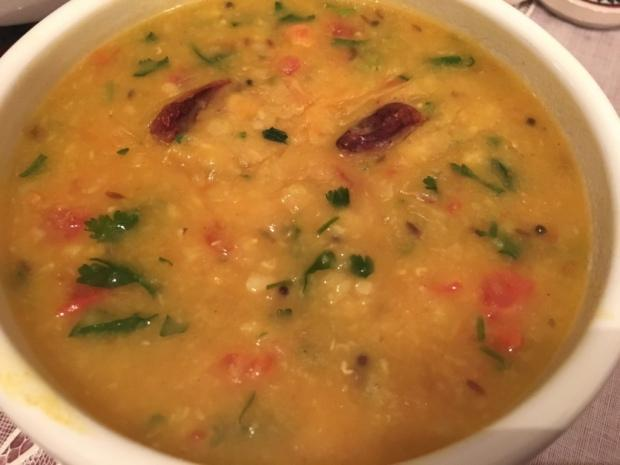dal: (18, 0, 589, 465)
